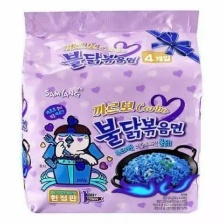snack: (14, 3, 208, 219)
